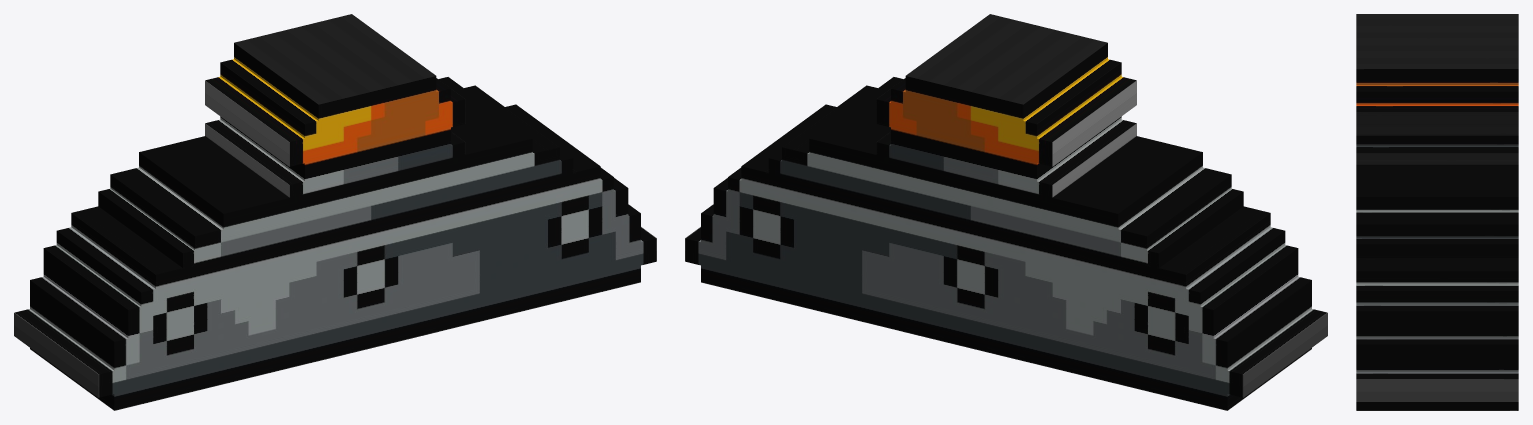
Rendered from mine1.fbx.
The picture shows the model from 3 angles, left to right: view 1: azimuth 30°, elevation 25°; view 2: azimuth 150°, elevation 25°; view 3: azimuth 270°, elevation 25°; orthographic projection. The views are drawn at different scales.
Visible parts, largest first — view 1: Plane; view 2: Plane; view 3: Plane.
Boxes of the visible parts, x1,y1,x2,y2 form: Plane: (14,14,656,410); Plane: (685,14,1327,410); Plane: (1356,14,1518,410).
Bounding box in the file's own units: 164 × 72 × 43.
